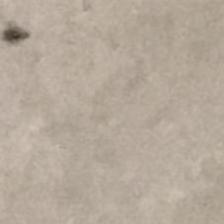Non_Crack: (16, 57, 188, 224)
